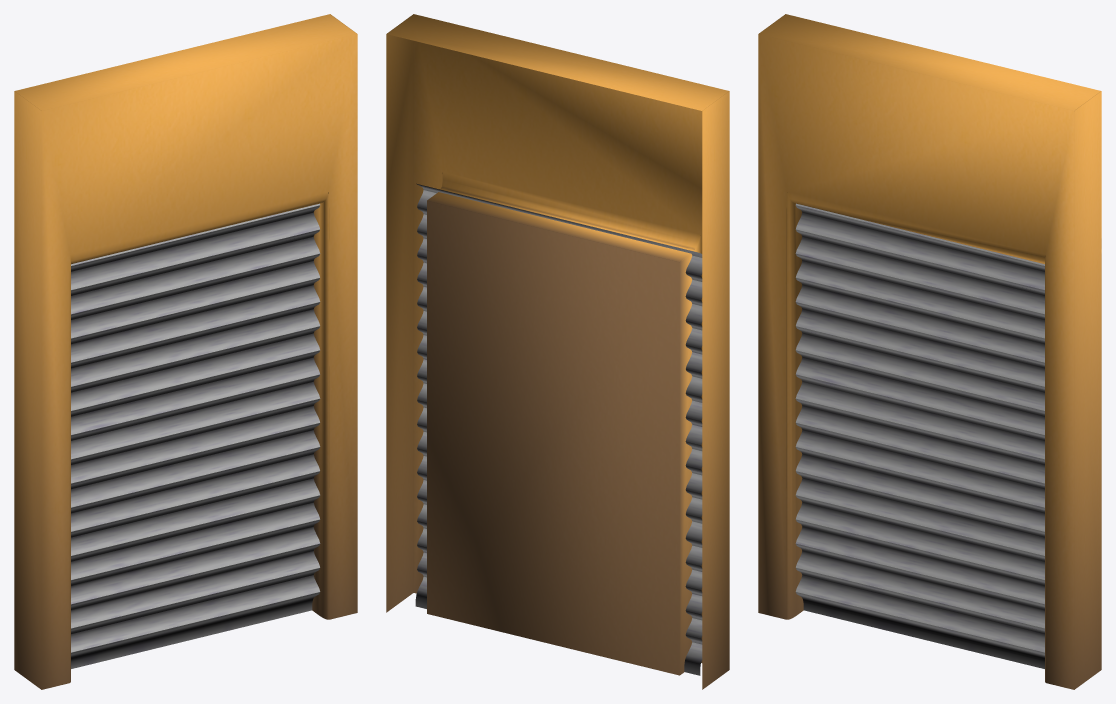
The model's file is PortaLoja.fbx.
The picture shows the model from 3 angles, left to right: view 1: azimuth 30°, elevation 25°; view 2: azimuth 150°, elevation 25°; view 3: azimuth 330°, elevation 25°; orthographic projection.
Parts seen in each view (by area): view 1: ParedeLoja, PortaMetalica; view 2: ParedeLoja, PortaMetalica; view 3: ParedeLoja, PortaMetalica.
Part boxes in pixels (x1=…): ParedeLoja: x1=14, y1=14, x2=357, y2=689; PortaMetalica: x1=71, y1=203, x2=320, y2=668; ParedeLoja: x1=386, y1=14, x2=729, y2=689; PortaMetalica: x1=415, y1=183, x2=702, y2=675; ParedeLoja: x1=758, y1=14, x2=1101, y2=689; PortaMetalica: x1=795, y1=203, x2=1044, y2=668.
Bounding box in the file's own units: 200 × 350 × 30.
